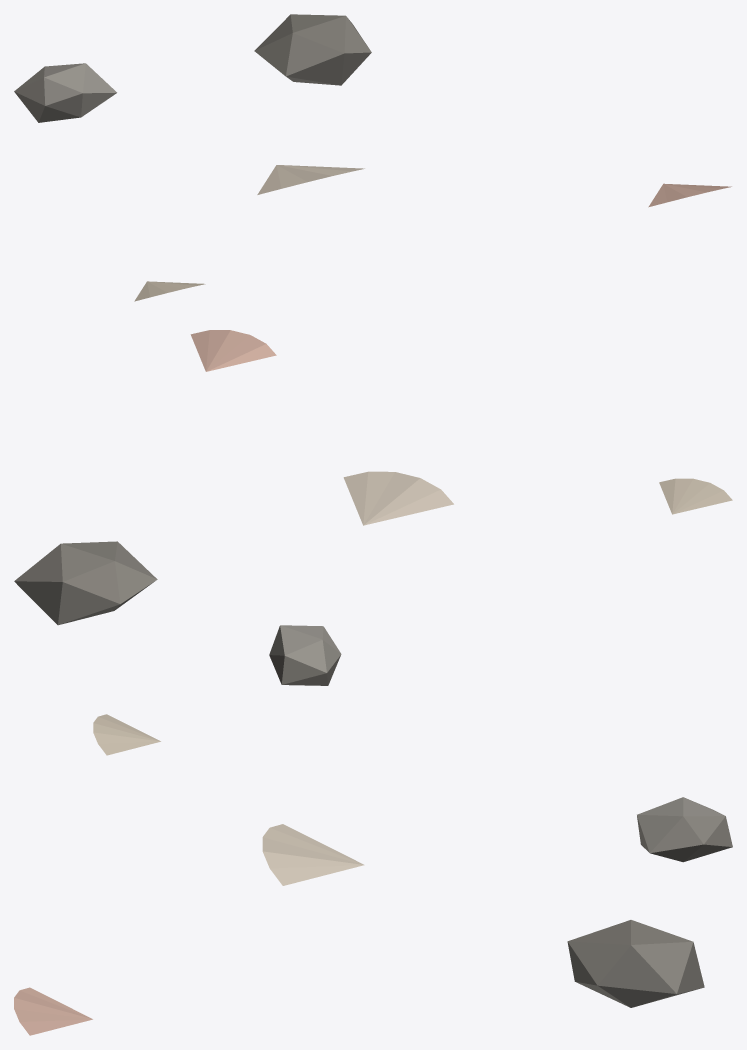
Rendered from cover-shells.glb.
The picture shows the model from 3 angles, top to bottom: view 1: azimuth 30°, elevation 25°; view 2: azimuth 150°, elevation 25°; view 3: azimuth 270°, elevation 25°; orthographic projection. The views are drawn at different scales.
Visible parts, largest first — view 1: cover-shells; view 2: cover-shells; view 3: cover-shells.
Part boxes in pixels (x1,y1,x2,y2): cover-shells: (14, 14, 731, 301); cover-shells: (14, 330, 732, 685); cover-shells: (14, 714, 732, 1035).
Bounding box in the file's own units: 0.7318 × 0.0684 × 0.689.
